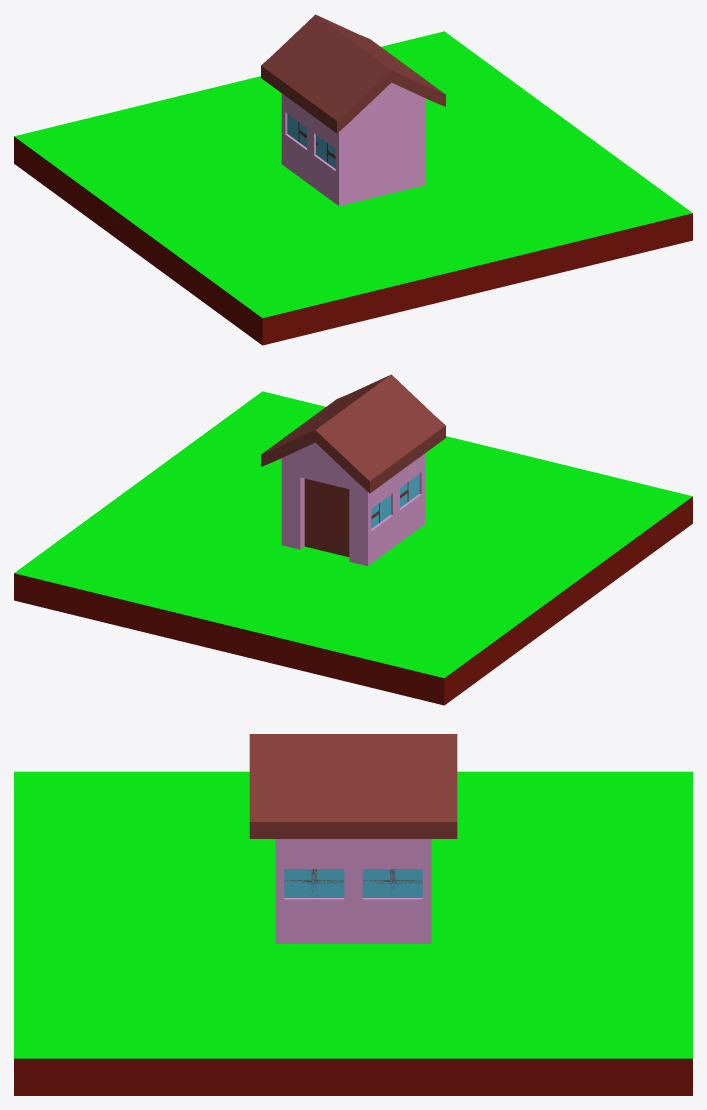
File: home.glb
The picture shows the model from 3 angles, top to bottom: view 1: azimuth 30°, elevation 25°; view 2: azimuth 150°, elevation 25°; view 3: azimuth 270°, elevation 25°; orthographic projection. The views are drawn at different scales.
Visible parts, largest first — view 1: Plane, Cube; view 2: Plane, Cube; view 3: Plane, Cube.
Boxes of the visible parts, left/top/right/bottom form: Plane: left=14, top=31, right=692, bottom=345; Cube: left=261, top=14, right=445, bottom=206; Plane: left=14, top=391, right=692, bottom=705; Cube: left=261, top=374, right=445, bottom=566; Plane: left=14, top=771, right=692, bottom=1095; Cube: left=249, top=734, right=457, bottom=943.
Bounding box in the file's own units: 10 × 3.55 × 10.
